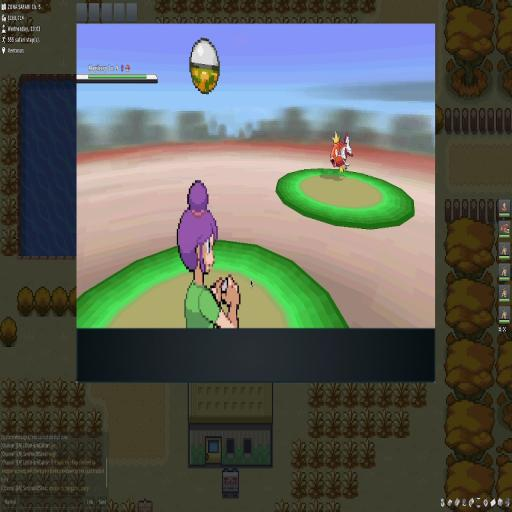MAGIKARP: (328, 132, 352, 174)
